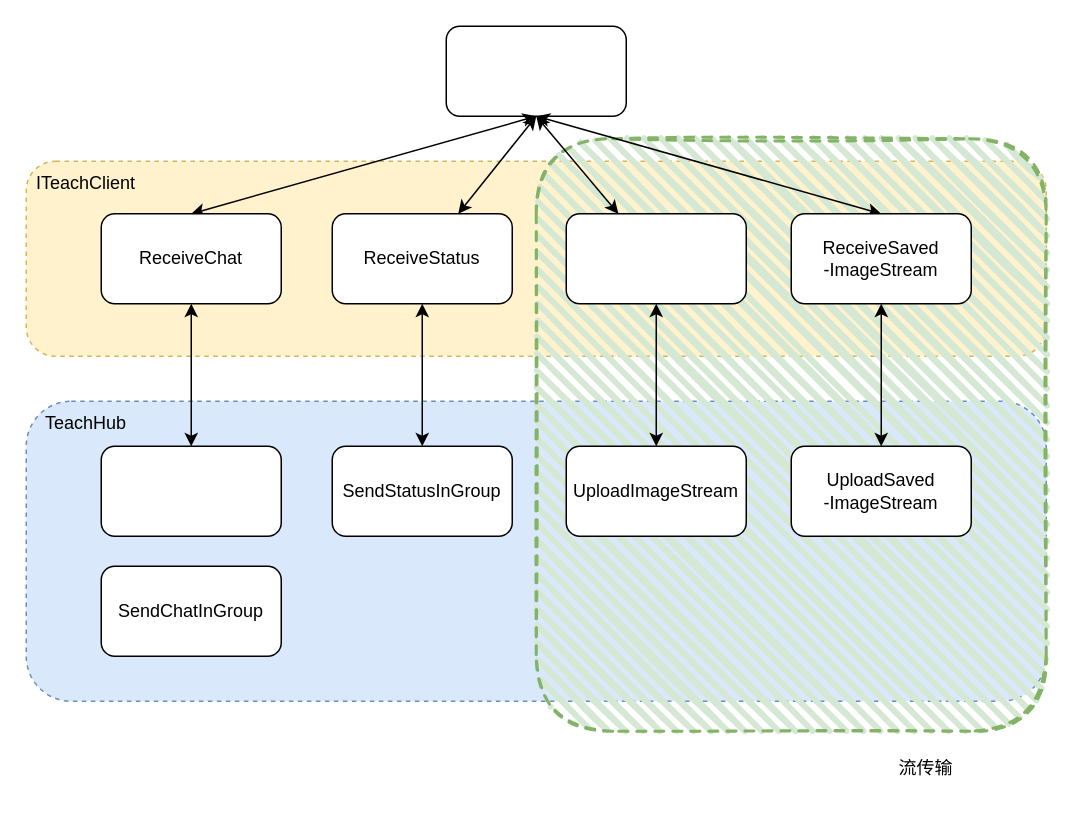
Some shapes in this 1074 by 831 pixel diagram are drawn without their labels. The centre of each missing label's shape, as x and y in pixels:
"AddTeacher/Student -ToGroup" goes at pixel 190 490.
"ReceiveImageStream" goes at pixel 655 258.
"实时服务中心" goes at pixel 535 70.
